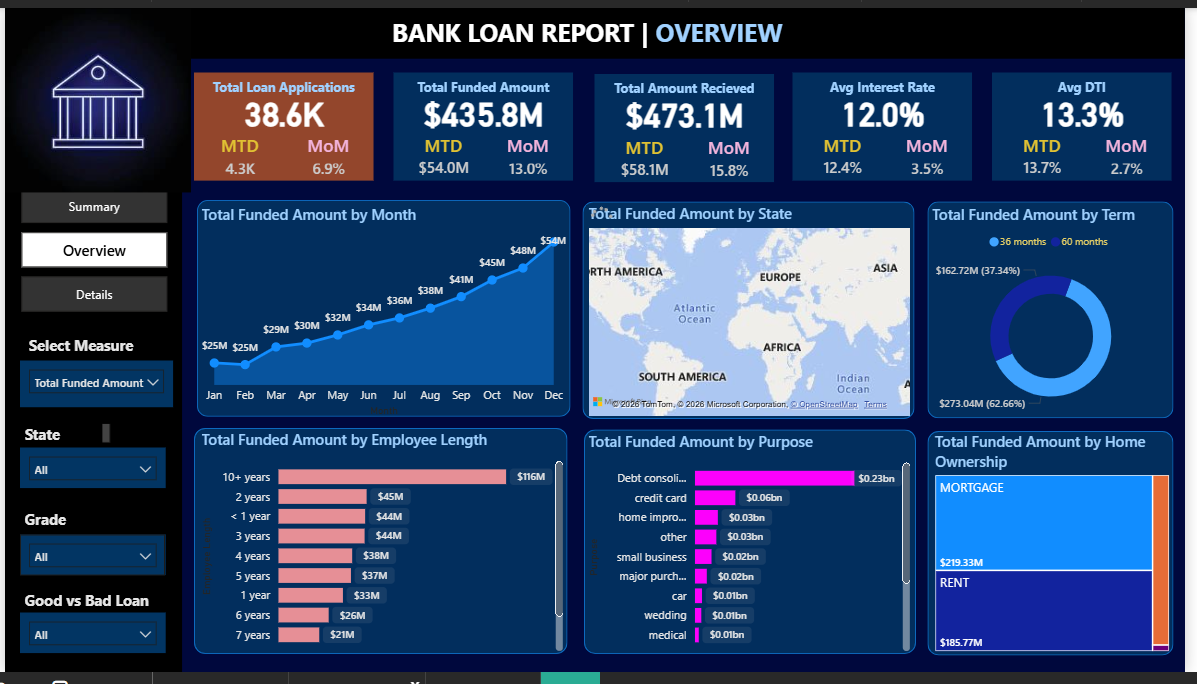

What the dashboard file says about the page in this screenshot:
{"tool":"powerbi","page":{"name":"Overview","canvas":[1280,720],"ordinal":1},"visuals":[{"type":"shape","box":[421.7,69.9,194.8,117.2],"z":0,"group":"g2"},{"type":"shape","box":[854,69.9,194.8,117.2],"z":0,"group":"g4"},{"type":"shape","box":[1070.9,69.9,194.8,117.2],"z":0,"group":"g5"},{"type":"shape","box":[205.2,70.7,194.8,117.2],"z":0,"group":"g1"},{"type":"shape","box":[638.7,71.6,194.8,117.2],"z":0,"group":"g3"},{"type":"shape","box":[208.2,208.2,405,235],"z":0},{"type":"shape","box":[0,0,1279.3,55],"z":1000},{"type":"shape","box":[0,55.2,192,665.5],"z":2000},{"type":"textbox","box":[415.5,3.4,448.3,48.3],"z":3000},{"type":"card","fields":{"Values":["bank_loan_data.Total Funded Amount"]},"box":[421.7,87.1,194.8,48.3],"z":3000,"group":"g2"},{"type":"card","fields":{"Values":["bank_loan_data.Avg Intrest Rate"]},"box":[854,87.1,194.8,48.3],"z":3000,"group":"g4"},{"type":"card","fields":{"Values":["bank_loan_data.Avg DTI"]},"box":[1070.9,87.1,194.8,48.3],"z":3000,"group":"g5"},{"type":"card","fields":{"Values":["bank_loan_data.Total Loan Applications"]},"box":[205.2,87.9,194.8,48.3],"z":3000,"group":"g1"},{"type":"card","fields":{"Values":["bank_loan_data.Total Amount Recieved"]},"box":[638.7,88.8,194.8,48.3],"z":3000,"group":"g3"},{"type":"group","id":"g1","title":"Group 1","box":[205.2,70.7,194.8,117.2],"z":4000},{"type":"group","id":"g2","title":"Group 1","box":[421.7,69.9,195.2,118.7],"z":5000},{"type":"textbox","box":[421.7,69.9,194.8,34.5],"z":5000,"group":"g2"},{"type":"textbox","box":[854,69.9,194.8,34.5],"z":5000,"group":"g4"},{"type":"textbox","box":[1070.9,69.9,194.8,34.5],"z":5000,"group":"g5"},{"type":"textbox","box":[205.2,70.7,194.8,34.5],"z":5000,"group":"g1"},{"type":"textbox","box":[638.7,71.6,194.8,34.5],"z":5000,"group":"g3"},{"type":"group","id":"g3","title":"Group 1","box":[638.7,71.6,193.6,118.7],"z":6000},{"type":"card","title":"MTD","fields":{"Values":["bank_loan_data.MTD Funded Amount"]},"box":[439.8,136,72.4,51.7],"z":6000,"group":"g2"},{"type":"card","title":"MTD","fields":{"Values":["bank_loan_data.MTD Avg Int Rate"]},"box":[872.1,136,72.4,51.7],"z":6000,"group":"g4"},{"type":"card","title":"MTD","fields":{"Values":["bank_loan_data.MTD Avg DTI"]},"box":[1089,136,72.4,51.7],"z":6000,"group":"g5"},{"type":"card","title":"MTD","fields":{"Values":["bank_loan_data.MTD Total Amount Recieved"]},"box":[656.8,137.7,72.4,51.7],"z":6000,"group":"g3"},{"type":"card","title":"MTD","fields":{"Values":["bank_loan_data.MTD Loan Applications"]},"box":[222.4,137.9,63.8,50],"z":6000,"group":"g1"},{"type":"group","id":"g4","title":"Group 1","box":[854,69.9,195.2,117.1],"z":7000},{"type":"card","title":"MoM","fields":{"Values":["bank_loan_data.MoM Total Funded Amount"]},"box":[535.5,137.1,63.8,50],"z":7000,"group":"g2"},{"type":"card","title":"MoM","fields":{"Values":["bank_loan_data.MoM Avg Int Rate"]},"box":[967.8,137.1,63.8,50],"z":7000,"group":"g4"},{"type":"card","title":"MoM","fields":{"Values":["bank_loan_data.MoM Avg DTI"]},"box":[1184.7,137.1,63.8,50],"z":7000,"group":"g5"},{"type":"card","title":"MoM","fields":{"Values":["bank_loan_data.MoM Loan Application"]},"box":[319,137.9,63.8,50],"z":7000,"group":"g1"},{"type":"card","title":"MoM","fields":{"Values":["bank_loan_data.MoM Total Amount Recieved"]},"box":[752.5,138.8,63.8,50],"z":7000,"group":"g3"},{"type":"group","id":"g5","title":"Group 1","box":[1070.9,69.9,195.2,117.1],"z":8000},{"type":"slicer","fields":{"Values":["bank_loan_data.address_state"]},"box":[16.3,477.1,157.8,43.9],"z":9000},{"type":"textbox","box":[16.3,446.2,102.5,30.9],"z":10000},{"type":"slicer","fields":{"Values":["bank_loan_data.grade"]},"box":[16.3,571.5,157.8,43.9],"z":11000},{"type":"textbox","box":[16.3,538.9,102.5,32.5],"z":12000},{"type":"slicer","fields":{"Values":["bank_loan_data.Good vs Bad Loan"]},"box":[16.3,656.1,157.8,43.9],"z":13000},{"type":"textbox","box":[16.7,626.7,158.3,36.7],"z":14000},{"type":"areaChart","fields":{"Y":["bank_loan_data.Total Funded Amount"],"Category":["Date Table.Month"]},"box":[208.3,213.3,405,233.3],"z":15000},{"type":"slicer","fields":{"Values":["Select Measure.Select Measure"]},"box":[16.3,382.8,165.9,50.4],"z":16000},{"type":"textbox","box":[16.3,350.3,157.8,32.5],"z":17000},{"type":"shape","box":[626.2,209.8,360,235.8],"z":18000},{"type":"filledMap","fields":{"Y":["bank_loan_data.Total Funded Amount"],"Category":["bank_loan_data.address_state"]},"box":[628.3,211.7,358.3,235],"z":19000},{"type":"shape","box":[1000,210,266.7,235],"z":20000},{"type":"donutChart","fields":{"Y":["bank_loan_data.Total Funded Amount"],"Category":["bank_loan_data.term"]},"box":[1000,213.3,266.7,236.7],"z":21000},{"type":"shape","box":[205,455,405,245],"z":22000},{"type":"barChart","fields":{"Y":["bank_loan_data.Total Funded Amount"],"Category":["bank_loan_data.emp_length"]},"box":[208.3,456.7,401.7,245],"z":23000},{"type":"shape","box":[628.3,456.7,360,243.3],"z":24000},{"type":"barChart","fields":{"Y":["bank_loan_data.Total Funded Amount"],"Category":["bank_loan_data.purpose"]},"box":[628.3,458.3,358.3,243.3],"z":25000},{"type":"shape","box":[1000,458.3,266.7,243.3],"z":26000},{"type":"treemap","fields":{"Values":["bank_loan_data.Total Funded Amount"],"Group":["bank_loan_data.home_ownership"]},"box":[1003.3,458.3,263.3,243.3],"z":27000},{"type":"pageNavigator","box":[18.3,195,158.3,135],"z":27001},{"type":"image","box":[0,0,201.7,200],"z":27002}]}

Visuals, with their boxes in screenshot pixels (x1, y1, x2, y2), scaled from the page's 1280x720 canvas onto the 1197x684 screenshot:
shape: <bbox>394, 66, 577, 178</bbox>
shape: <bbox>799, 66, 981, 178</bbox>
shape: <bbox>1001, 66, 1184, 178</bbox>
shape: <bbox>192, 67, 374, 179</bbox>
shape: <bbox>597, 68, 779, 179</bbox>
shape: <bbox>195, 198, 573, 421</bbox>
shape: <bbox>0, 0, 1196, 52</bbox>
shape: <bbox>0, 52, 180, 683</bbox>
textbox: <bbox>389, 3, 808, 49</bbox>
card - bank_loan_data.Total Funded Amount: <bbox>394, 83, 577, 129</bbox>
card - bank_loan_data.Avg Intrest Rate: <bbox>799, 83, 981, 129</bbox>
card - bank_loan_data.Avg DTI: <bbox>1001, 83, 1184, 129</bbox>
card - bank_loan_data.Total Loan Applications: <bbox>192, 84, 374, 129</bbox>
card - bank_loan_data.Total Amount Recieved: <bbox>597, 84, 779, 130</bbox>
"Group 1" group: <bbox>192, 67, 374, 179</bbox>
"Group 1" group: <bbox>394, 66, 577, 179</bbox>
textbox: <bbox>394, 66, 577, 99</bbox>
textbox: <bbox>799, 66, 981, 99</bbox>
textbox: <bbox>1001, 66, 1184, 99</bbox>
textbox: <bbox>192, 67, 374, 100</bbox>
textbox: <bbox>597, 68, 779, 101</bbox>
"Group 1" group: <bbox>597, 68, 778, 181</bbox>
"MTD" card: <bbox>411, 129, 479, 178</bbox>
"MTD" card: <bbox>816, 129, 883, 178</bbox>
"MTD" card: <bbox>1018, 129, 1086, 178</bbox>
"MTD" card: <bbox>614, 131, 682, 180</bbox>
"MTD" card: <bbox>208, 131, 268, 179</bbox>
"Group 1" group: <bbox>799, 66, 981, 178</bbox>
"MoM" card: <bbox>501, 130, 560, 178</bbox>
"MoM" card: <bbox>905, 130, 965, 178</bbox>
"MoM" card: <bbox>1108, 130, 1168, 178</bbox>
"MoM" card: <bbox>298, 131, 358, 179</bbox>
"MoM" card: <bbox>704, 132, 763, 179</bbox>
"Group 1" group: <bbox>1001, 66, 1184, 178</bbox>
slicer - bank_loan_data.address_state: <bbox>15, 453, 163, 495</bbox>
textbox: <bbox>15, 424, 111, 453</bbox>
slicer - bank_loan_data.grade: <bbox>15, 543, 163, 585</bbox>
textbox: <bbox>15, 512, 111, 543</bbox>
slicer - bank_loan_data.Good vs Bad Loan: <bbox>15, 623, 163, 665</bbox>
textbox: <bbox>16, 595, 164, 630</bbox>
areaChart - bank_loan_data.Total Funded Amount x Date Table.Month: <bbox>195, 203, 574, 424</bbox>
slicer - Select Measure.Select Measure: <bbox>15, 364, 170, 412</bbox>
textbox: <bbox>15, 333, 163, 364</bbox>
shape: <bbox>586, 199, 922, 423</bbox>
filledMap - bank_loan_data.Total Funded Amount x bank_loan_data.address_state: <bbox>588, 201, 923, 424</bbox>
shape: <bbox>935, 200, 1185, 423</bbox>
donutChart - bank_loan_data.Total Funded Amount x bank_loan_data.term: <bbox>935, 203, 1185, 428</bbox>
shape: <bbox>192, 432, 570, 665</bbox>
barChart - bank_loan_data.Total Funded Amount x bank_loan_data.emp_length: <bbox>195, 434, 570, 667</bbox>
shape: <bbox>588, 434, 924, 665</bbox>
barChart - bank_loan_data.Total Funded Amount x bank_loan_data.purpose: <bbox>588, 435, 923, 667</bbox>
shape: <bbox>935, 435, 1185, 667</bbox>
treemap - bank_loan_data.Total Funded Amount x bank_loan_data.home_ownership: <bbox>938, 435, 1184, 667</bbox>
pageNavigator: <bbox>17, 185, 165, 314</bbox>
image: <bbox>0, 0, 189, 190</bbox>
